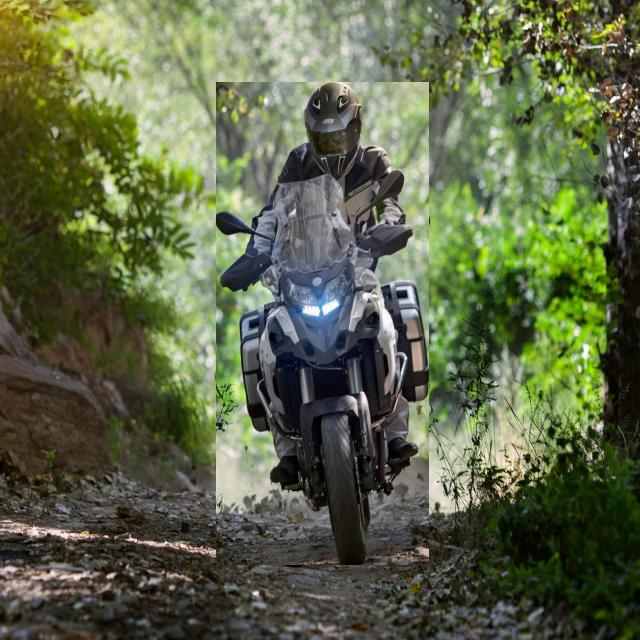motorcycle: (216, 83, 429, 565)
